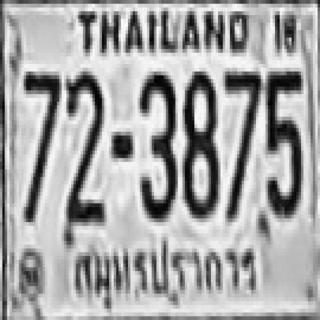N02: (65, 70, 103, 224), (65, 68, 103, 211)
N03: (138, 68, 176, 218)
N05: (263, 68, 301, 215)
N07: (21, 68, 59, 218), (224, 68, 260, 218), (21, 68, 59, 188)
N08: (180, 68, 216, 215)
P57: (71, 229, 262, 317)
